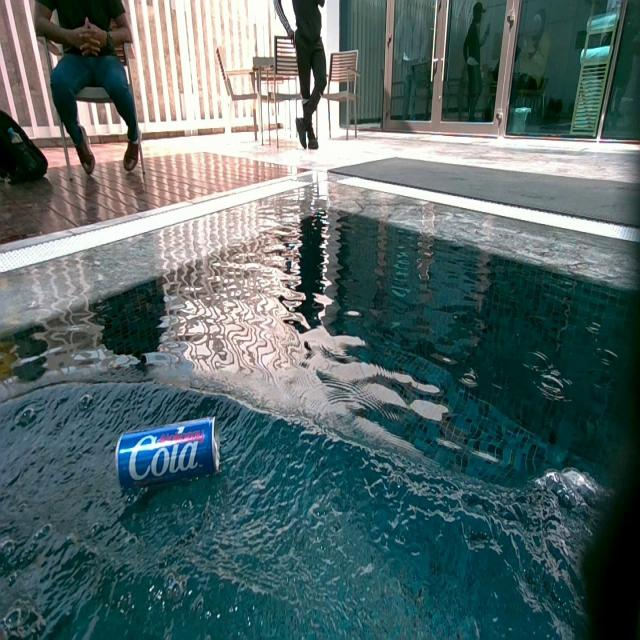Cans: (114, 414, 225, 489)
